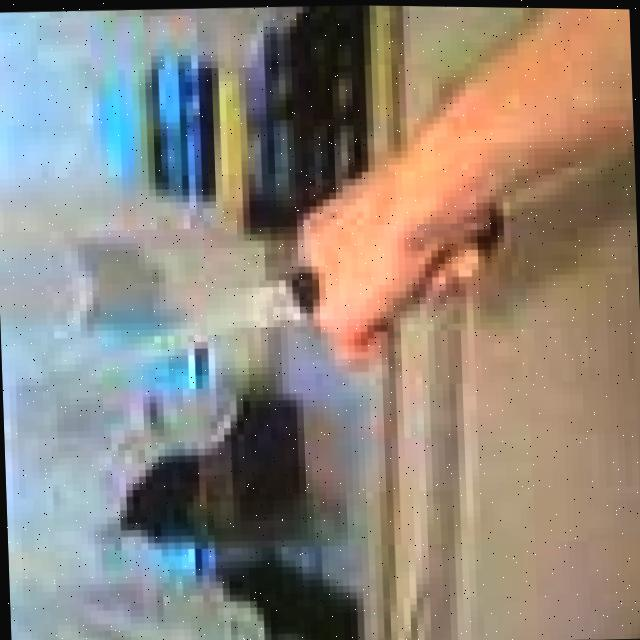knife: (79, 265, 315, 384)
